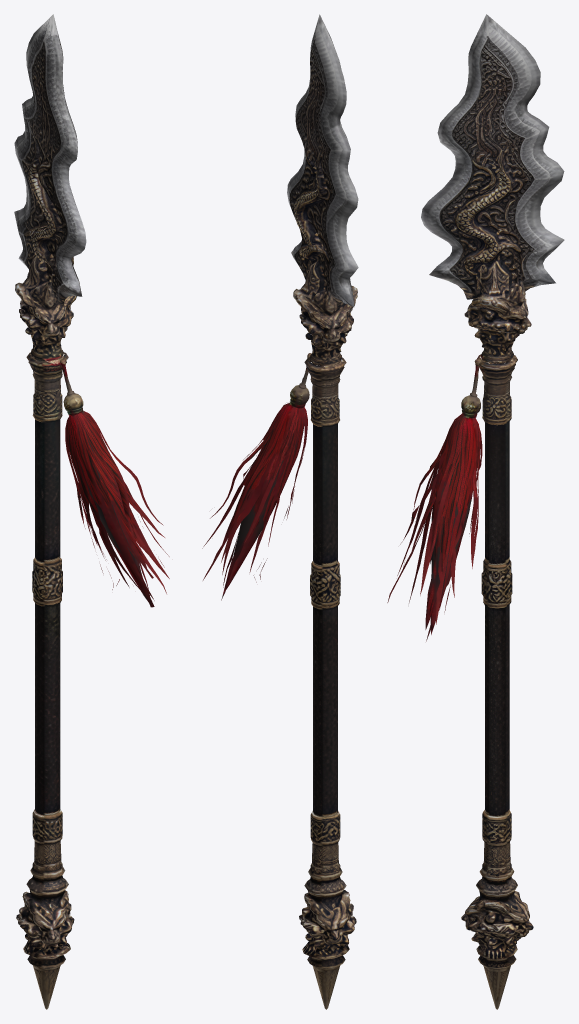
Rendered from 丈八蛇矛.glb.
The picture shows the model from 3 angles, left to right: view 1: azimuth 30°, elevation 25°; view 2: azimuth 210°, elevation 25°; view 3: azimuth 270°, elevation 25°; orthographic projection.
Parts seen in each view (by area): view 1: b0e4c944_1f32_48b2_9a06_38696e1aa6e5; view 2: b0e4c944_1f32_48b2_9a06_38696e1aa6e5; view 3: b0e4c944_1f32_48b2_9a06_38696e1aa6e5.
Part boxes in pixels (x1,y1,x2,y2): b0e4c944_1f32_48b2_9a06_38696e1aa6e5: (14,14,169,1009); b0e4c944_1f32_48b2_9a06_38696e1aa6e5: (202,14,358,1009); b0e4c944_1f32_48b2_9a06_38696e1aa6e5: (387,14,564,1009).
Size of the model in its own units: 0.1274 by 0.9995 by 0.1616.
1 material, 1 textured.
